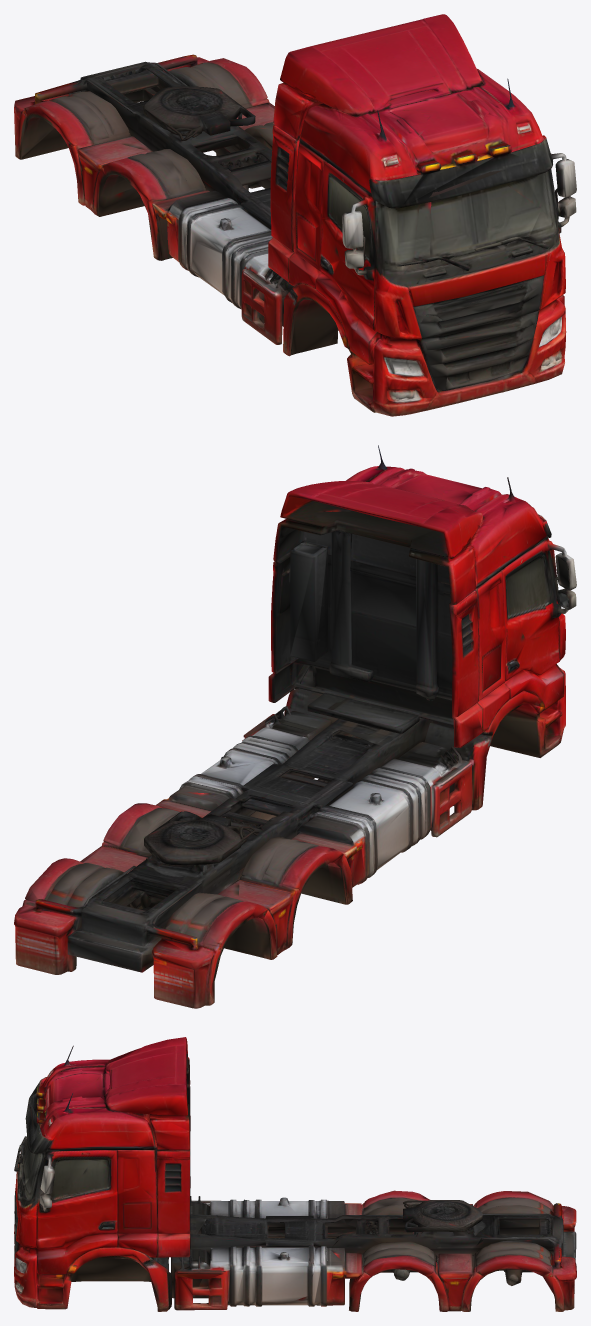
The picture shows the model from 3 angles, top to bottom: view 1: azimuth 30°, elevation 25°; view 2: azimuth 150°, elevation 25°; view 3: azimuth 270°, elevation 25°; orthographic projection. The views are drawn at different scales.
Parts seen in each view (by area): view 1: node_0; view 2: node_0; view 3: node_0.
Part boxes in pixels (left/top/right/bottom): node_0: left=14, top=14, right=576, bottom=416; node_0: left=14, top=445, right=576, bottom=1008; node_0: left=14, top=1037, right=576, bottom=1311.
Bounding box in the file's own units: 0.3817 × 0.4523 × 1.09.
Materials: 1 (1 with a texture image).
